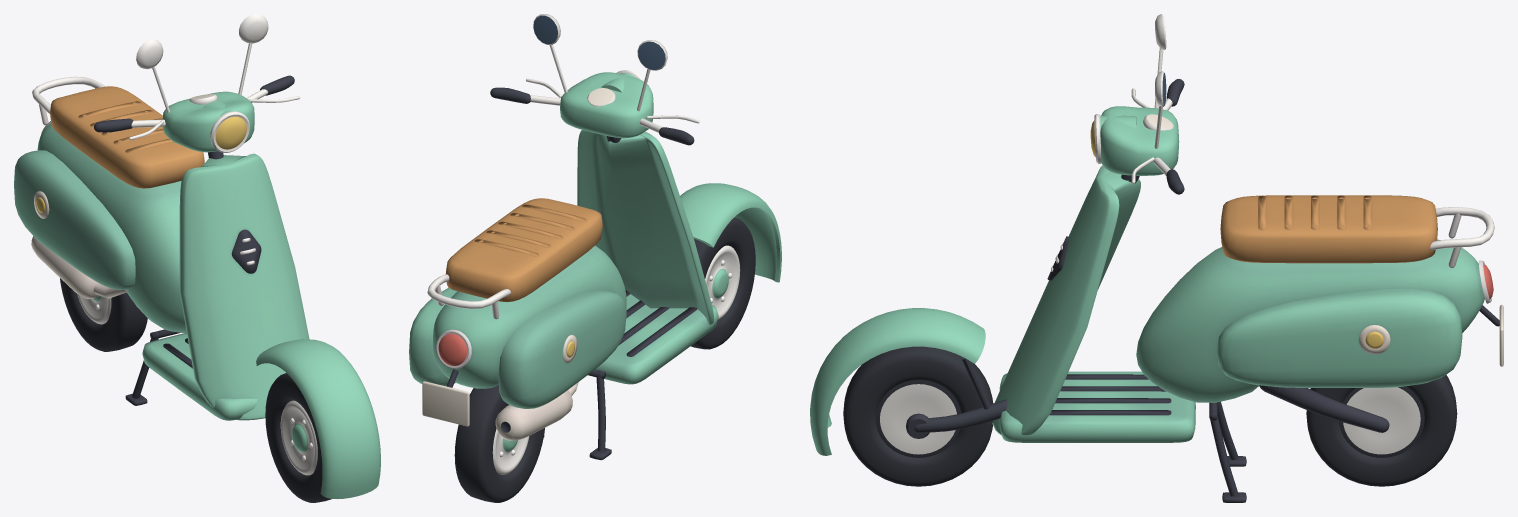
Rendered from scooter.glb.
3 renders of one model, left to right at view 1: azimuth 30°, elevation 25°; view 2: azimuth 150°, elevation 25°; view 3: azimuth 270°, elevation 25°, orthographic. The views are drawn at different scales.
Visible parts, largest first — view 1: scooter_body, scooter_steering, scooter_wheel_front, scooter_wheel_rear; view 2: scooter_body, scooter_steering, scooter_wheel_rear, scooter_wheel_front; view 3: scooter_body, scooter_steering, scooter_wheel_front, scooter_wheel_rear.
Boxes of the visible parts, x1,y1,x2,y2 form: scooter_body: (14, 76, 309, 420); scooter_steering: (94, 14, 380, 499); scooter_wheel_front: (265, 373, 331, 502); scooter_wheel_rear: (60, 278, 147, 351); scooter_body: (409, 130, 718, 460); scooter_steering: (490, 14, 781, 282); scooter_wheel_rear: (454, 385, 544, 502); scooter_wheel_front: (691, 217, 755, 349); scooter_body: (992, 165, 1503, 502); scooter_steering: (810, 14, 1184, 455); scooter_wheel_front: (843, 346, 993, 486); scooter_wheel_rear: (1306, 375, 1457, 486).
Bounding box in the file's own units: 0.737 × 1.38 × 1.98.
13 materials, 1 textured.
